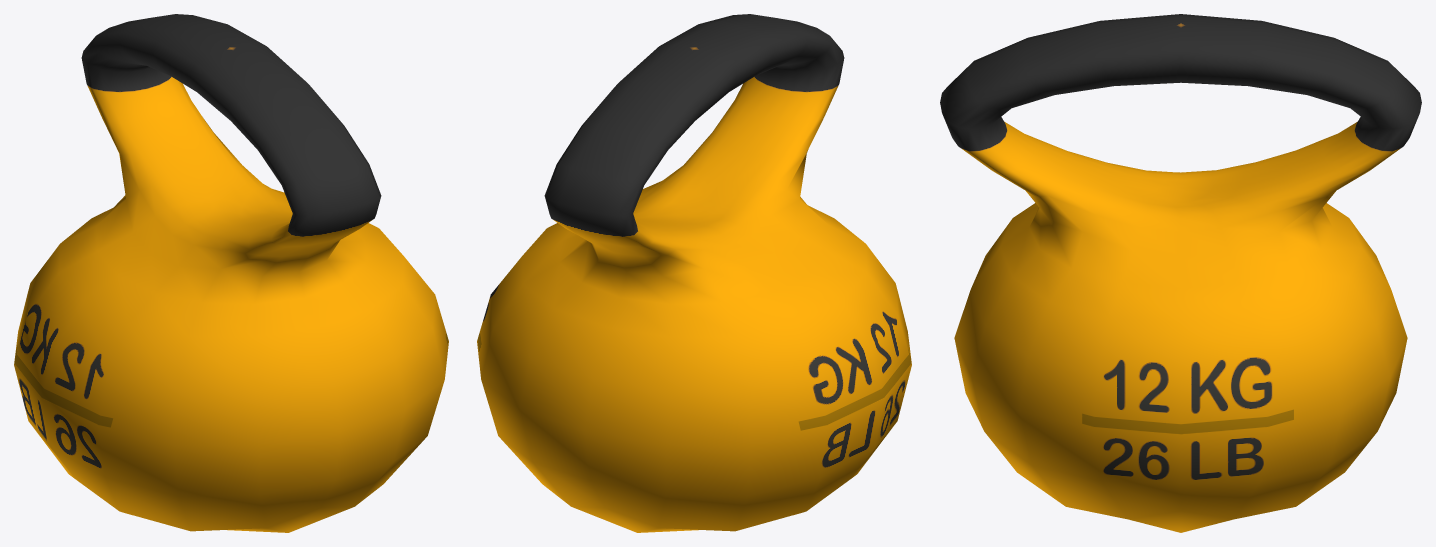
The model's file is rusa1.obj.
3 renders of one model, left to right at view 1: azimuth 30°, elevation 25°; view 2: azimuth 150°, elevation 25°; view 3: azimuth 270°, elevation 25°, orthographic. The views are drawn at different scales.
Visible parts, largest first — view 1: rusa1; view 2: rusa1; view 3: rusa1.
Part boxes in pixels (x1,y1,x2,y2): rusa1: (14,14,448,532); rusa1: (477,14,911,532); rusa1: (940,14,1421,532).
Bounding box in the file's own units: 2.24 × 2.52 × 2.38.
1 material, 1 textured.
